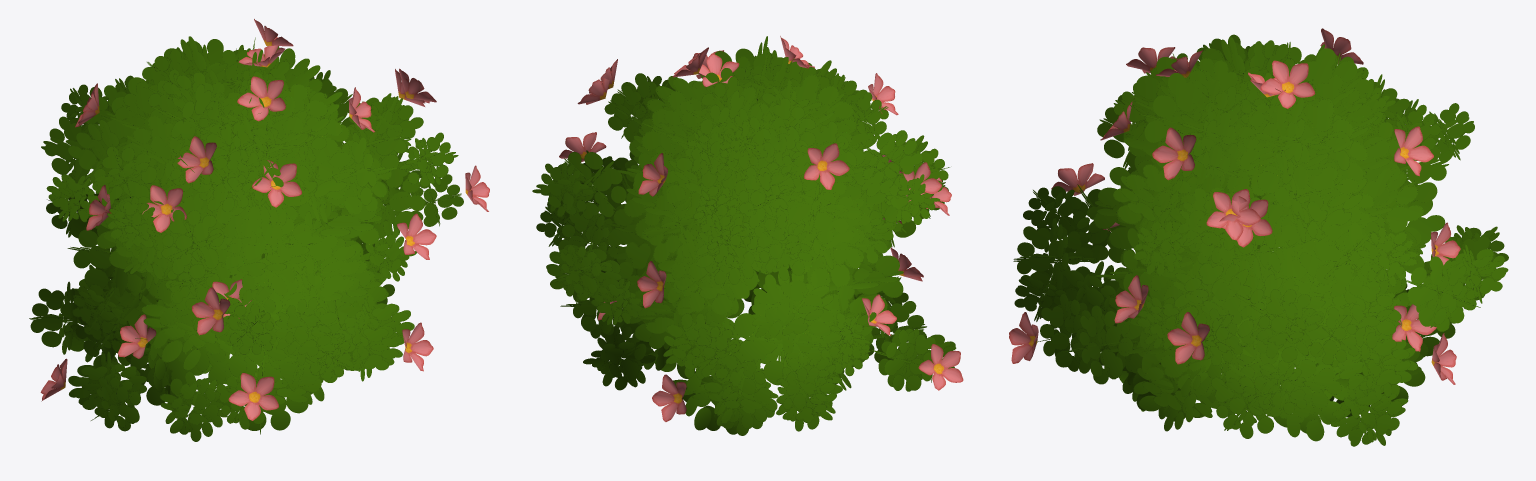
File: Bush_Large_Flowers.gltf
The picture shows the model from 3 angles, left to right: view 1: azimuth 30°, elevation 25°; view 2: azimuth 150°, elevation 25°; view 3: azimuth 270°, elevation 25°; orthographic projection. The views are drawn at different scales.
Parts seen in each view (by area): view 1: Bush_Large_Flowers; view 2: Bush_Large_Flowers; view 3: Bush_Large_Flowers.
Part boxes in pixels (x1=…): Bush_Large_Flowers: x1=29, y1=19, x2=489, y2=441; Bush_Large_Flowers: x1=532, y1=36, x2=963, y2=435; Bush_Large_Flowers: x1=1009, y1=28, x2=1508, y2=446.
Size of the model in its own units: 3.8 by 3.26 by 3.67.
2 materials, 2 textured.
